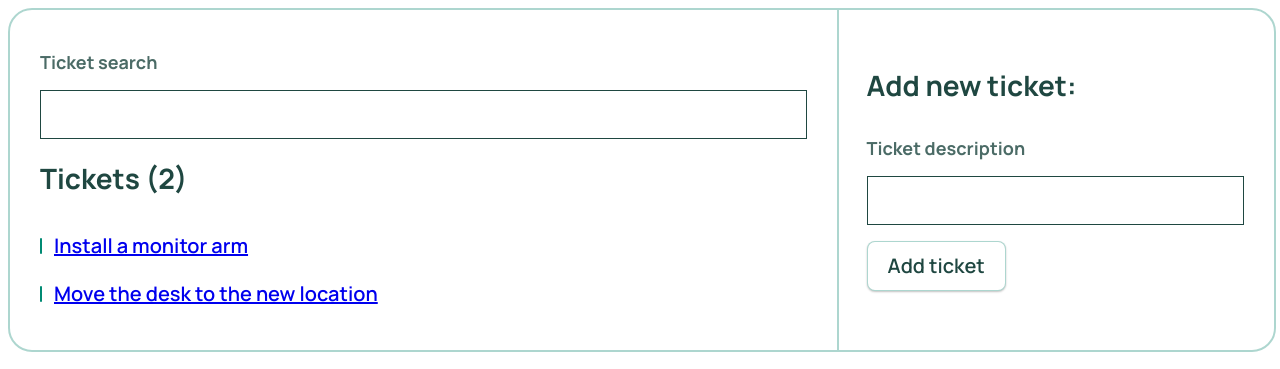
Test: filter on ticket
Type "monitor" into the field labelled "Ticket search" at (423, 114), box [40,90,806,139]
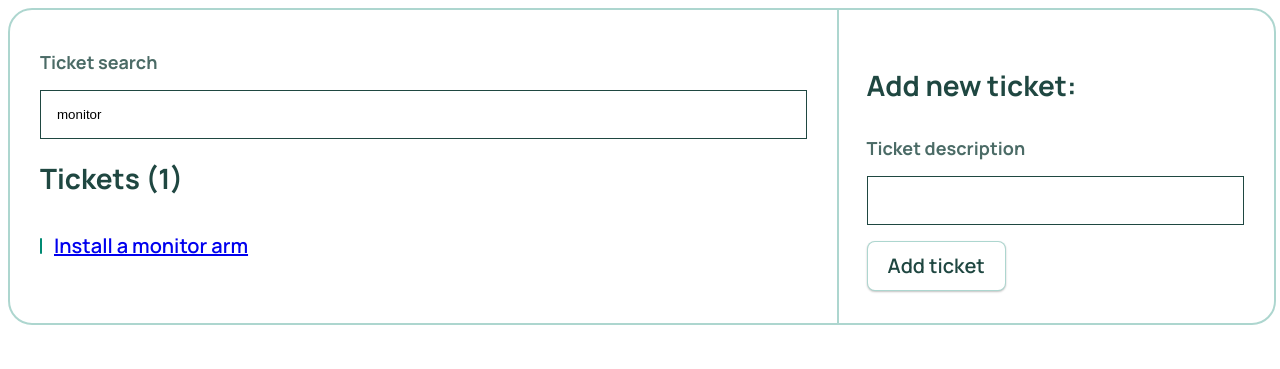
expect the link "Install a monitor arm" is shown: met, box [54,232,248,259]
expect the link "Move the desk to the new location" is gone: met
